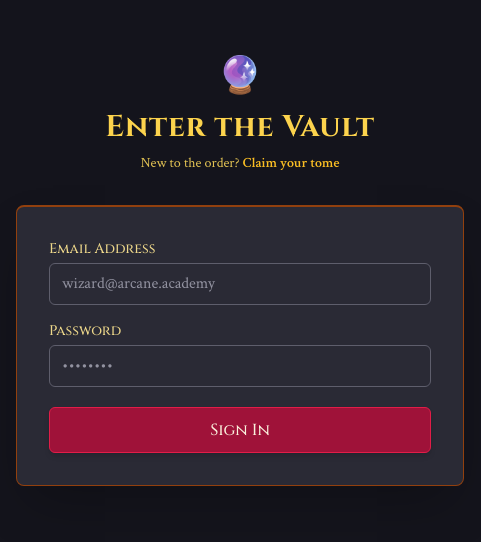
Test: LoginPage › shows a fallback error message when login fails without response data
Type "wizard@test.com" into the field labelled "Email Address" at (240, 284), box [49,262,431,304]
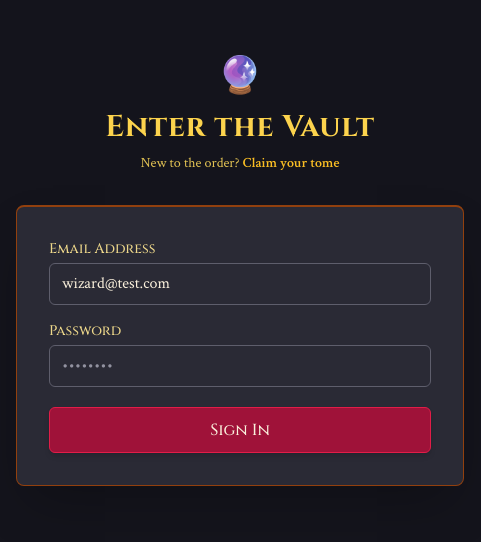
Type "badpassword" into the password field labelled "Password" at (240, 366), box [49,344,431,386]
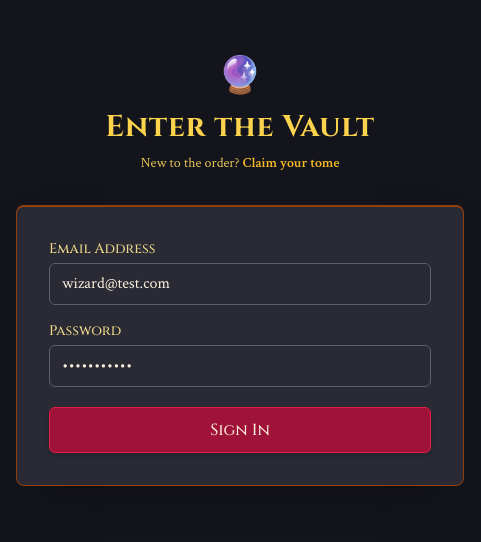
Click the button "Sign In" at (240, 430), box [49,406,431,452]
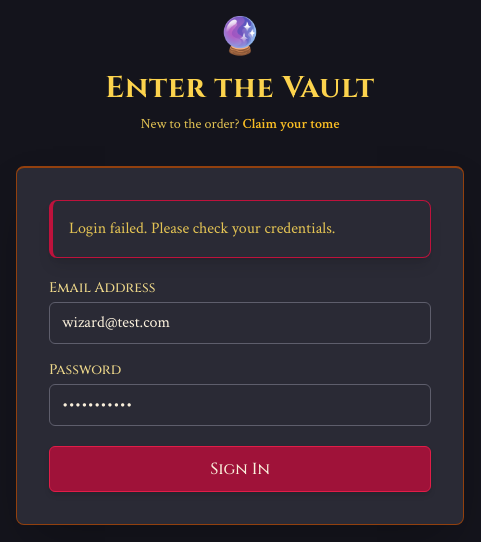
Now the text "Login failed. Please check your credentials." is shown, box [69,218,335,238]
